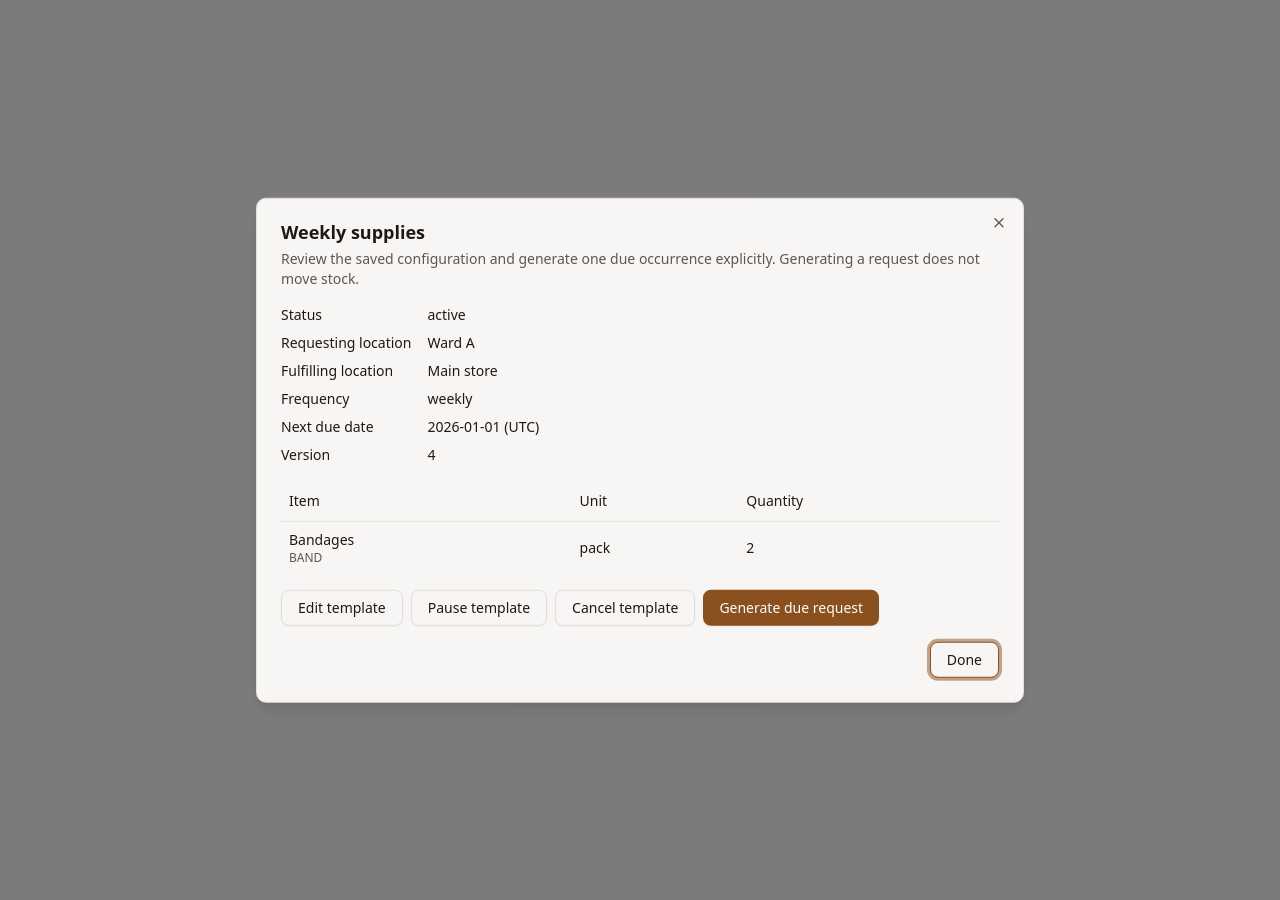
standing template workflows › confirms a due occurrence and shows only persisted requested/issued snapshots
This screenshot has width=1280, height=900.
Click the button "Generate due request": (791, 607) [703,589,879,625]
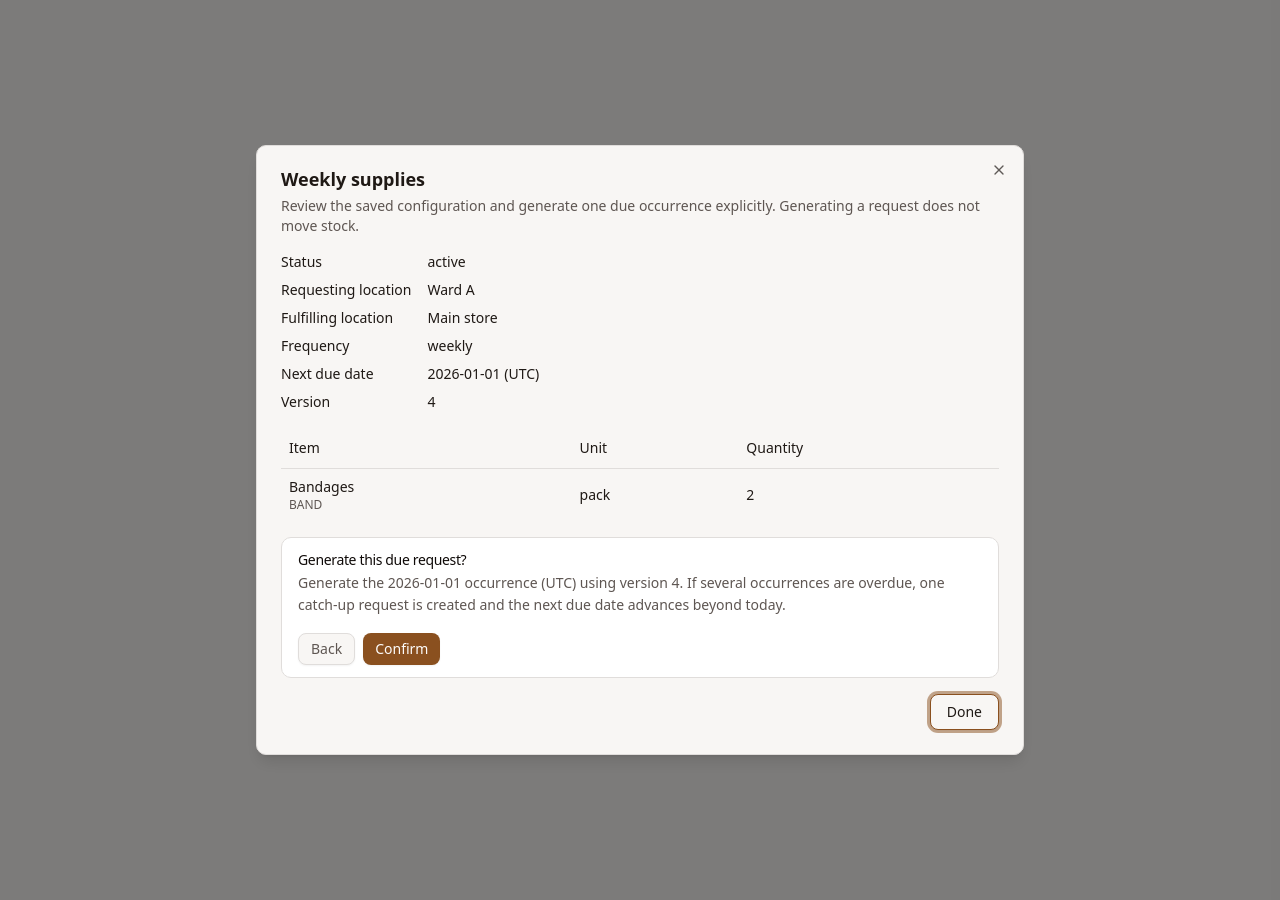
Click the button "Confirm": (402, 649) [363,633,440,665]
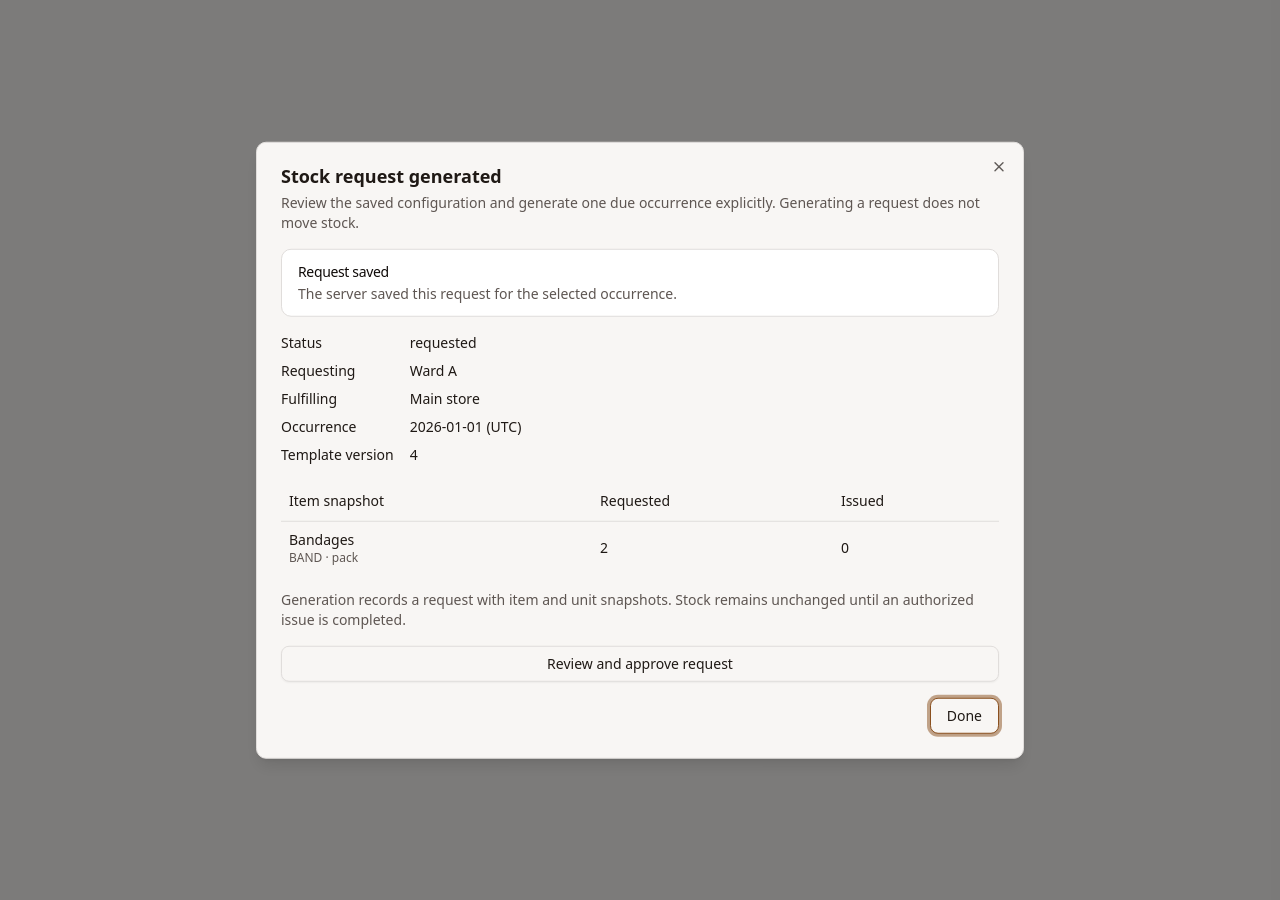
Expected: the text "0" is shown, [833,521,999,573]
Result: the text "Request saved" is shown at [298,262,389,281]
Result: the text "requested" is shown at [410,333,476,352]
